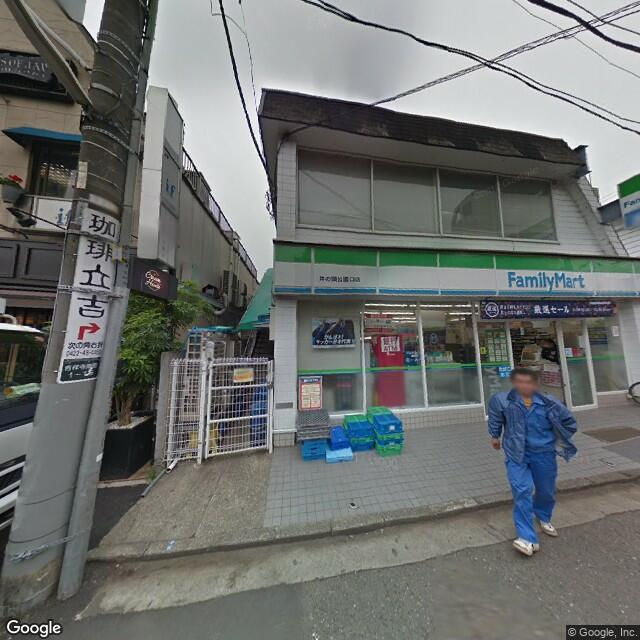family_mart: (273, 235, 640, 304), (501, 264, 589, 296), (616, 172, 640, 218)
